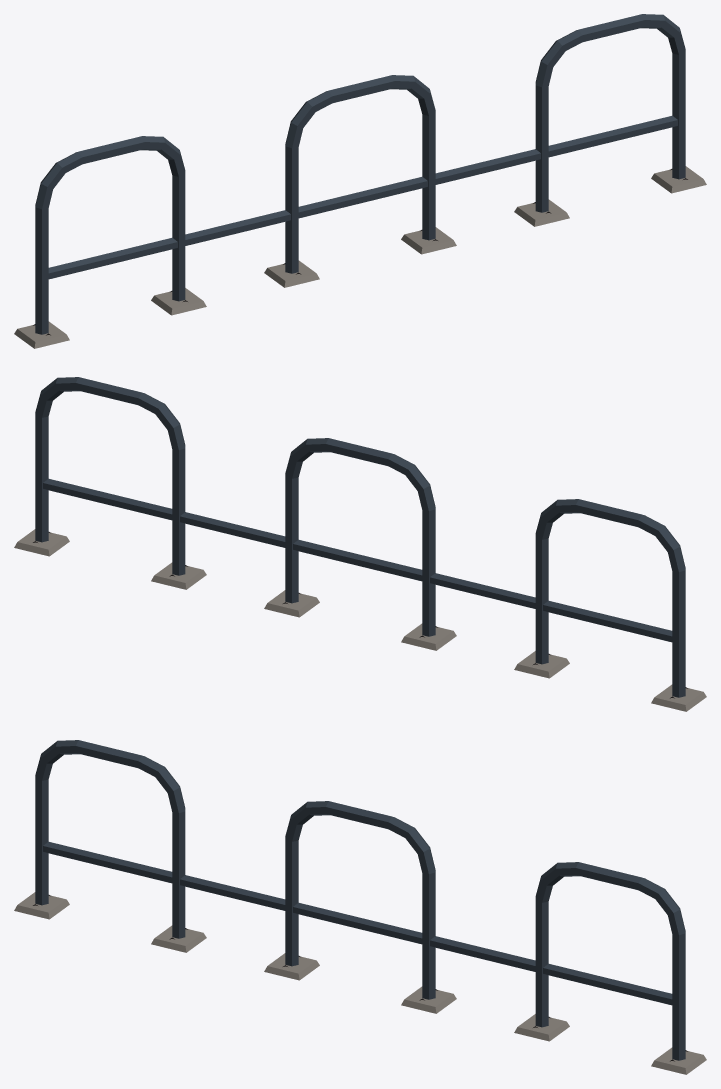
Rendered from bike-rack-a1e7c3.glb.
3 views of the same model, one above another, from view 1: azimuth 30°, elevation 25°; view 2: azimuth 150°, elevation 25°; view 3: azimuth 330°, elevation 25° (orthographic).
Visible parts, largest first — view 1: bike-rack; view 2: bike-rack; view 3: bike-rack.
Part boxes in pixels (x1,y1,x2,y2): bike-rack: [14, 14, 706, 348]; bike-rack: [14, 377, 706, 711]; bike-rack: [14, 740, 706, 1074].
Size of the model in its own units: 3.59 by 0.9 by 0.1895.
